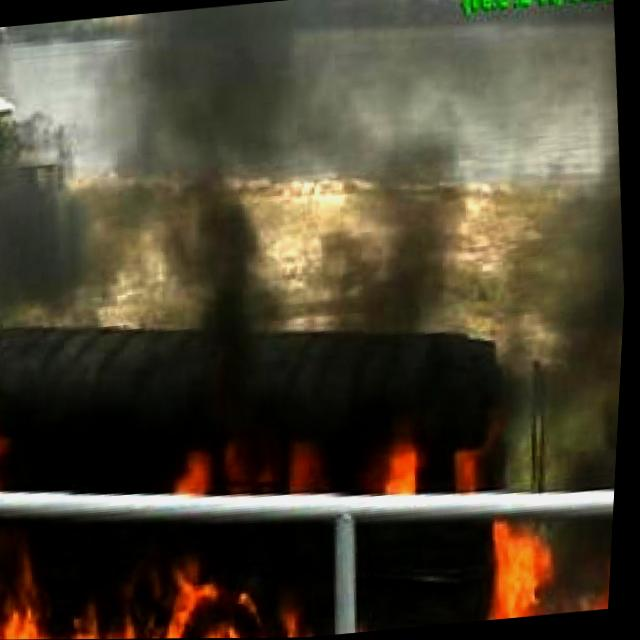helmet: (0, 533, 336, 640), (183, 430, 484, 504), (468, 528, 618, 619)
no_helmet: (0, 89, 636, 386), (0, 0, 466, 144), (479, 333, 626, 490)
